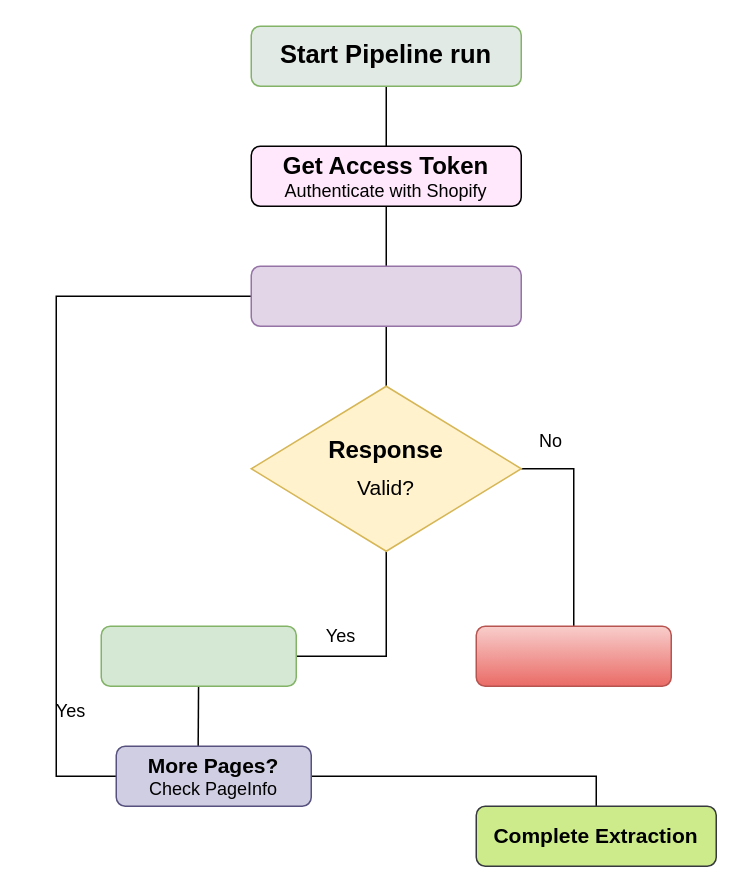
Some shapes in this 743 by 893 pixel diagram are drawn without their labels. Each missing label, with the centre of its shape:
"Classify Failure Retry or Fail run" goes at (x=573, y=655).
"Execute GraphQL Query Products/Orders/Inventory" goes at (x=385, y=295).
"Store Raw JSON Bronze Ingestion" goes at (x=198, y=655).
